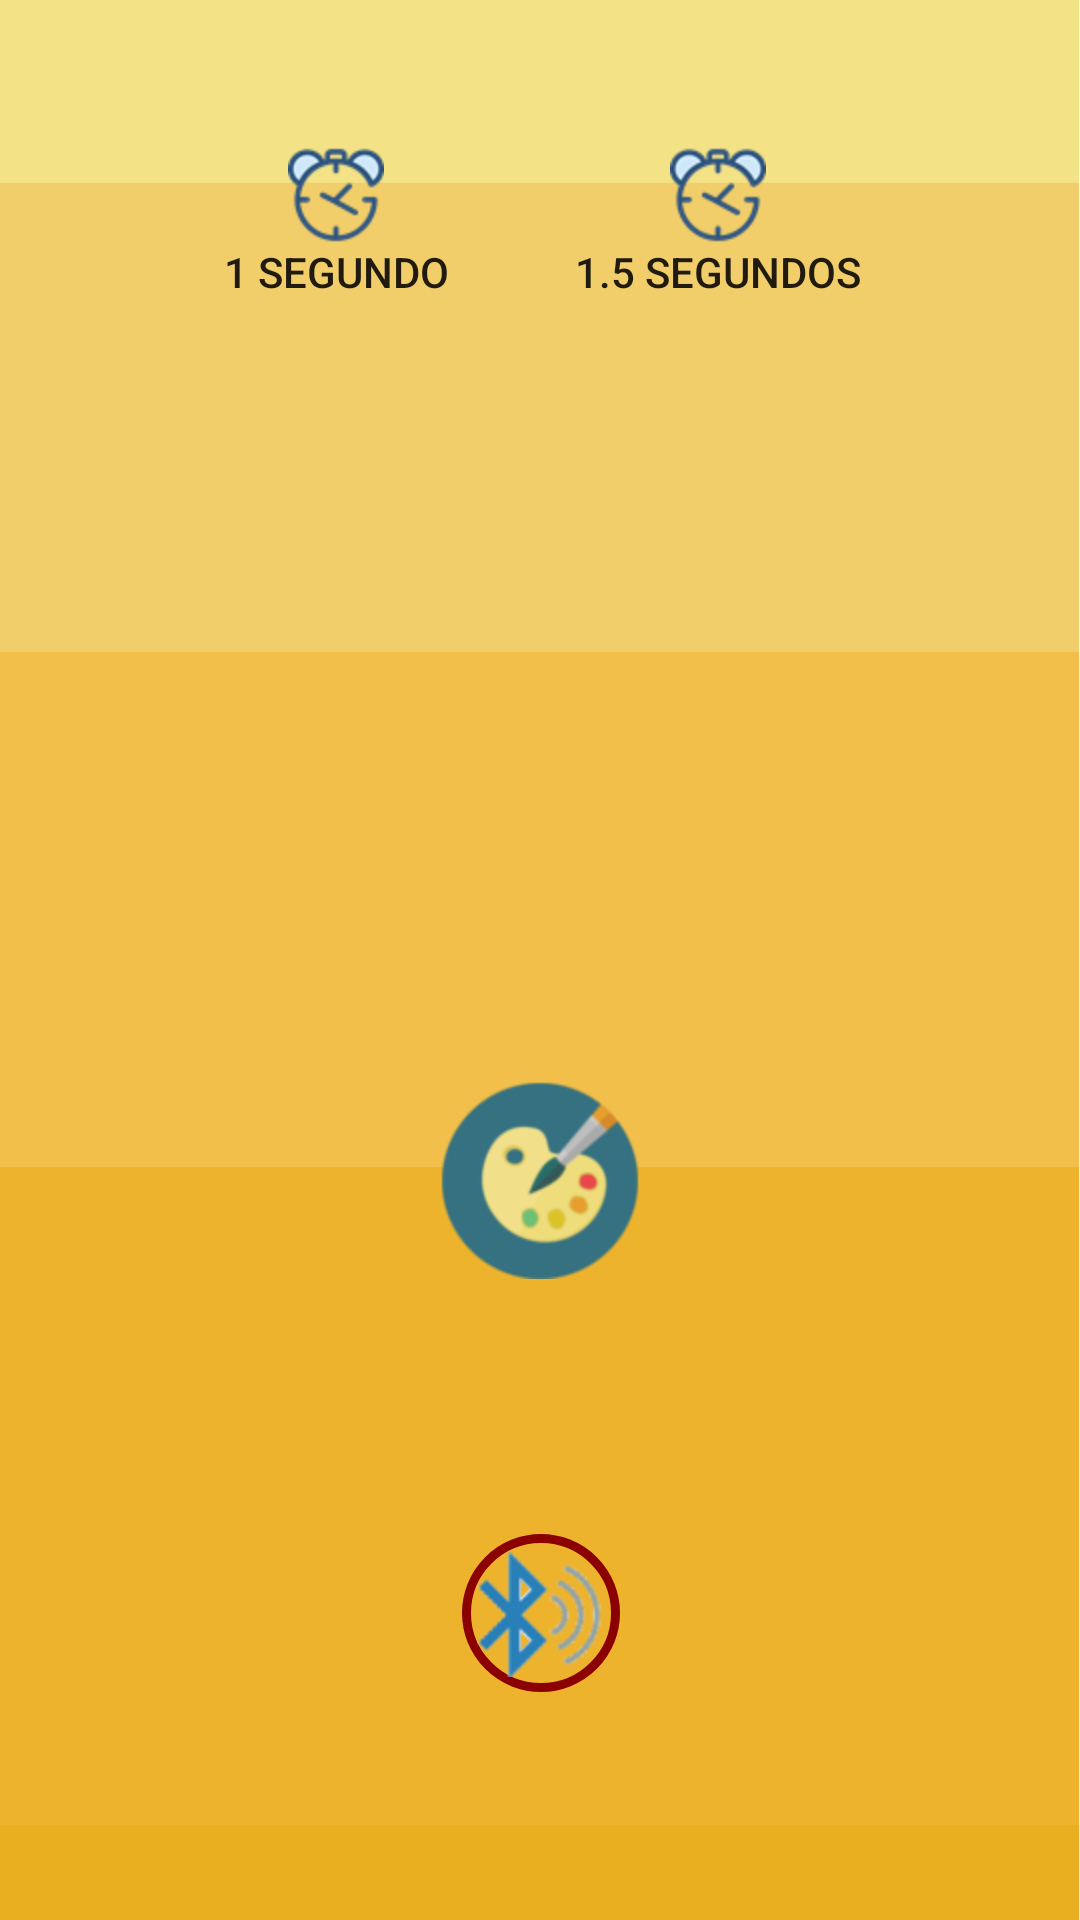

Icon click points for this 1080×1920 phone screenshot, format point (x, y):
palette: point (540, 1179)
